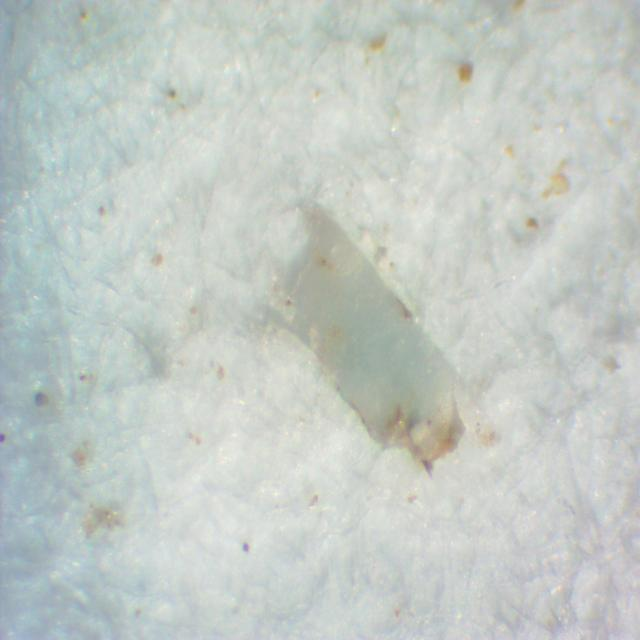microplastic: (292, 207, 496, 469)
